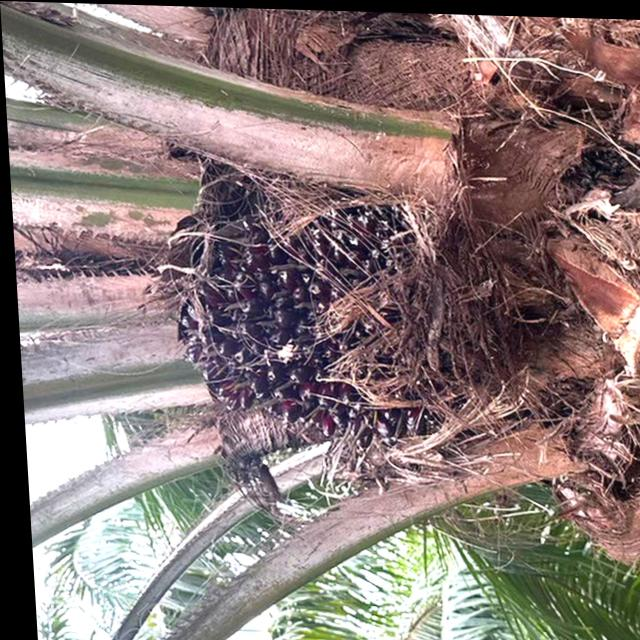ripe: (157, 190, 413, 443)
